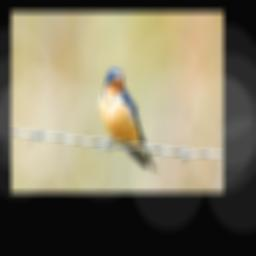Swallow: (97, 68, 159, 173)
